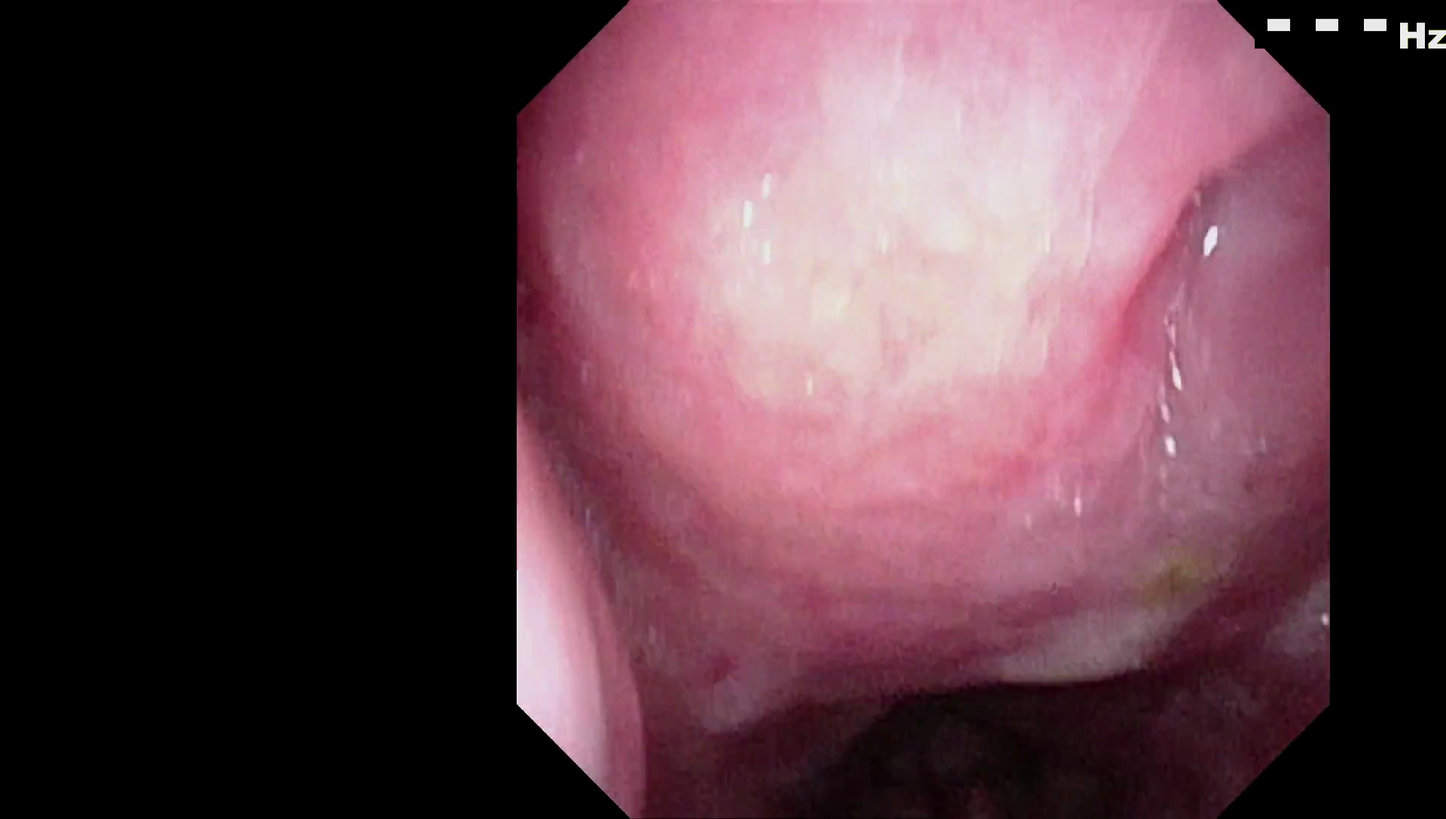close_wall: (657, 19, 1239, 485), (526, 430, 682, 808)
next: (733, 617, 1196, 819)
